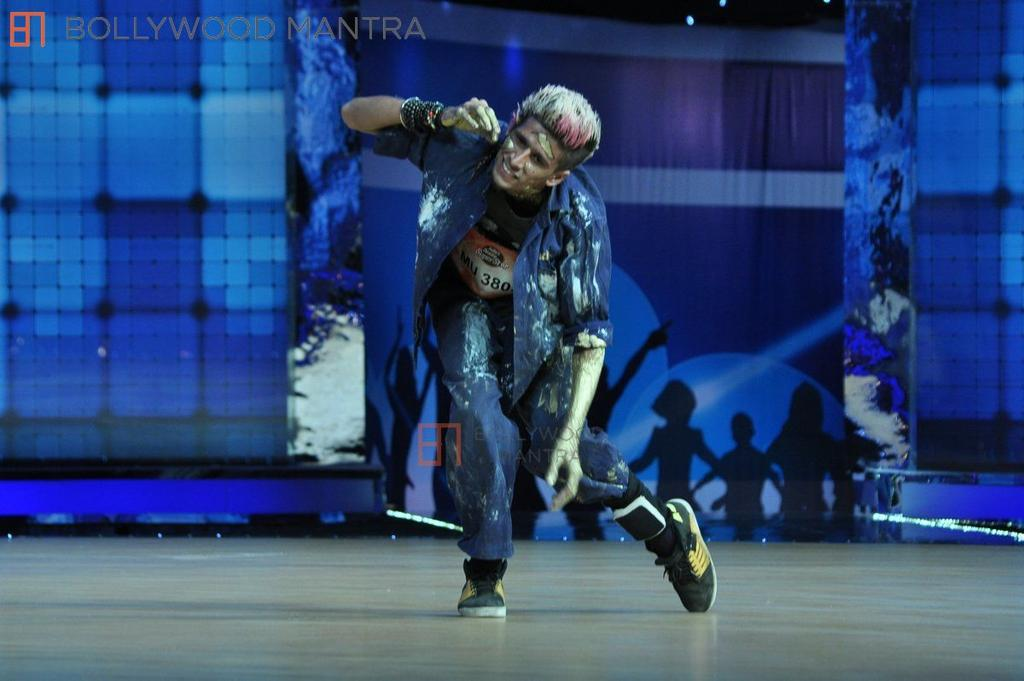face: (495, 105, 563, 187)
